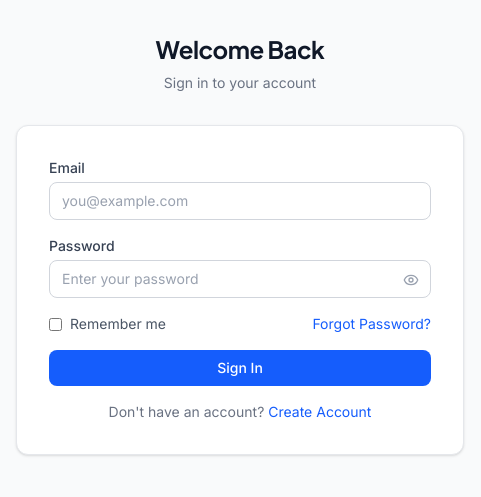
Test: LoginPage › shows error for invalid email format
Type "not-an-email" into the field labelled "Email" at (240,201), box [49, 182, 431, 220]
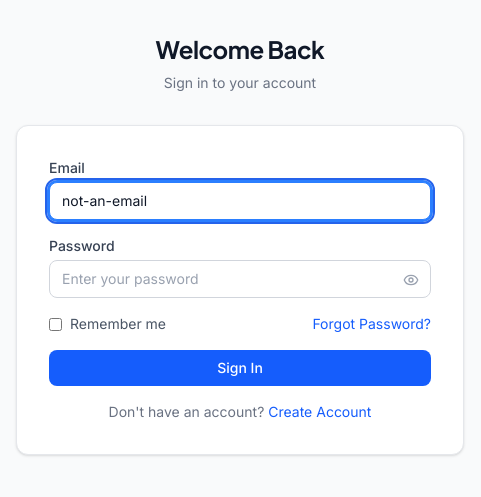
Click the button "Sign In" at (240,368), box [49, 350, 431, 386]
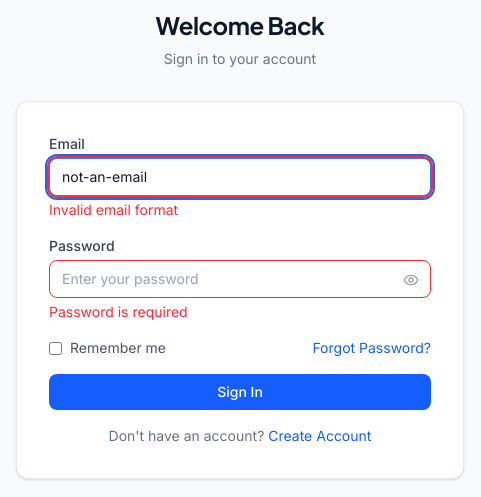
Result: the text "Invalid email format" is shown at [49, 201, 178, 218]
